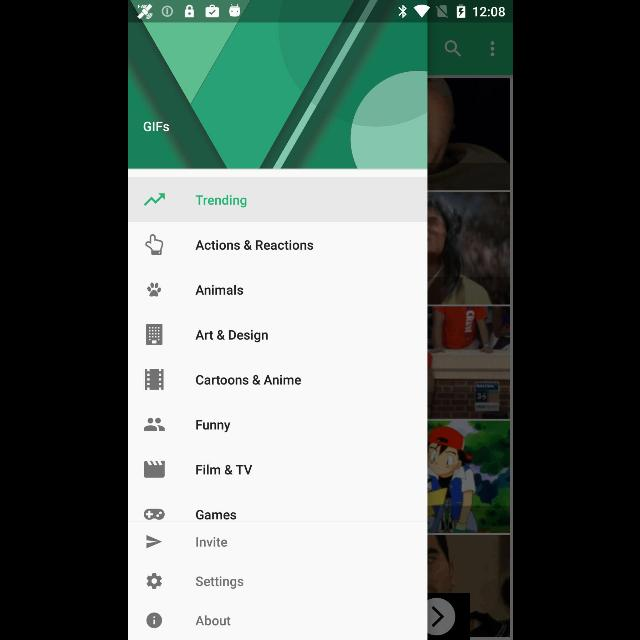icon: (143, 460, 165, 478), (143, 418, 165, 432), (145, 612, 161, 628), (146, 573, 162, 589), (144, 194, 164, 206), (146, 535, 162, 549)
image: (144, 369, 164, 391), (145, 234, 163, 256), (146, 324, 162, 346), (144, 508, 164, 520), (146, 283, 160, 297)
panel: (128, 24, 426, 640)
text: (195, 374, 301, 386), (195, 240, 313, 250), (195, 330, 268, 342), (194, 194, 246, 208), (194, 464, 252, 476), (195, 576, 243, 590), (195, 284, 243, 296), (194, 420, 230, 432), (194, 614, 230, 626), (194, 510, 236, 520), (195, 536, 227, 548), (143, 121, 169, 132)
uppertaskbar: (128, 1, 512, 23)
